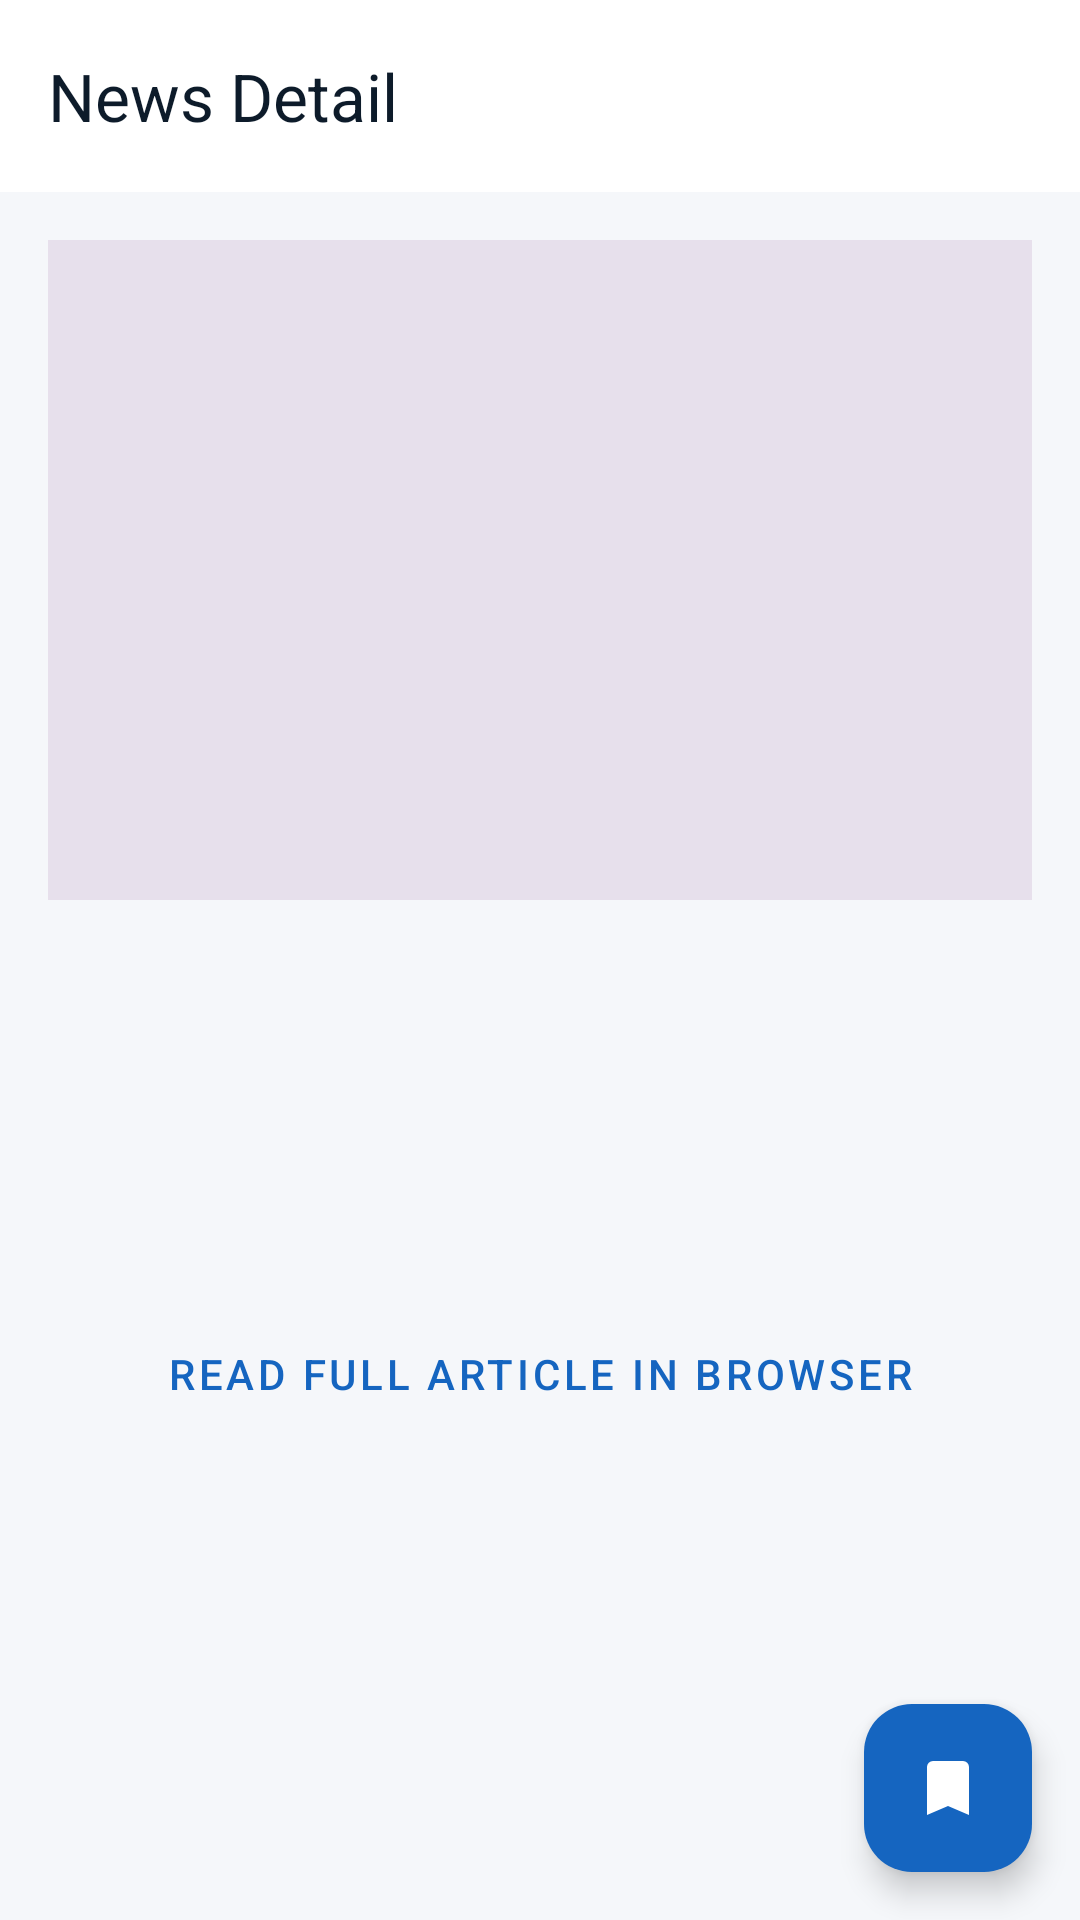

Screen size 1080x1920. Icon name, then its center in pixels as point (x, y):
save: point (948, 1788)
